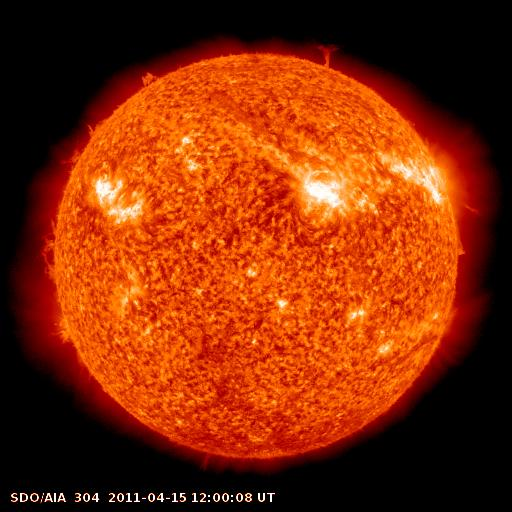prominence: (56, 110, 112, 171), (36, 212, 65, 285), (443, 209, 479, 267), (306, 32, 350, 77), (125, 58, 171, 100), (50, 307, 86, 350)
